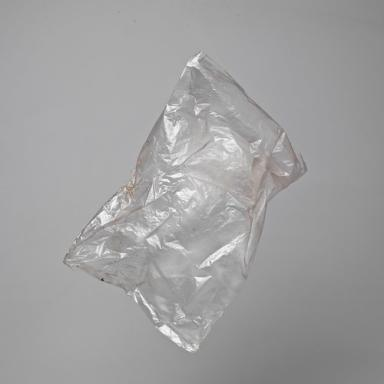plastic bag: (63, 48, 308, 351)
